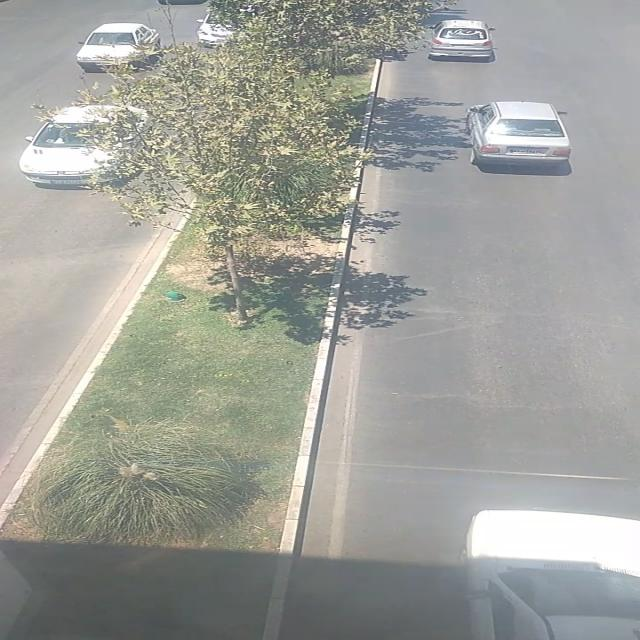car: (466, 509, 640, 640), (21, 105, 152, 188), (466, 103, 574, 165), (75, 21, 164, 72), (424, 20, 496, 62)
